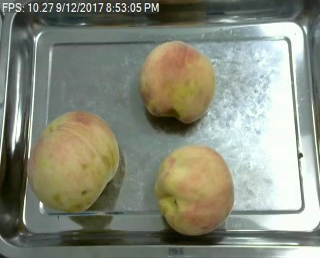Peach: (29, 108, 120, 212), (155, 143, 235, 236), (139, 38, 217, 124)
